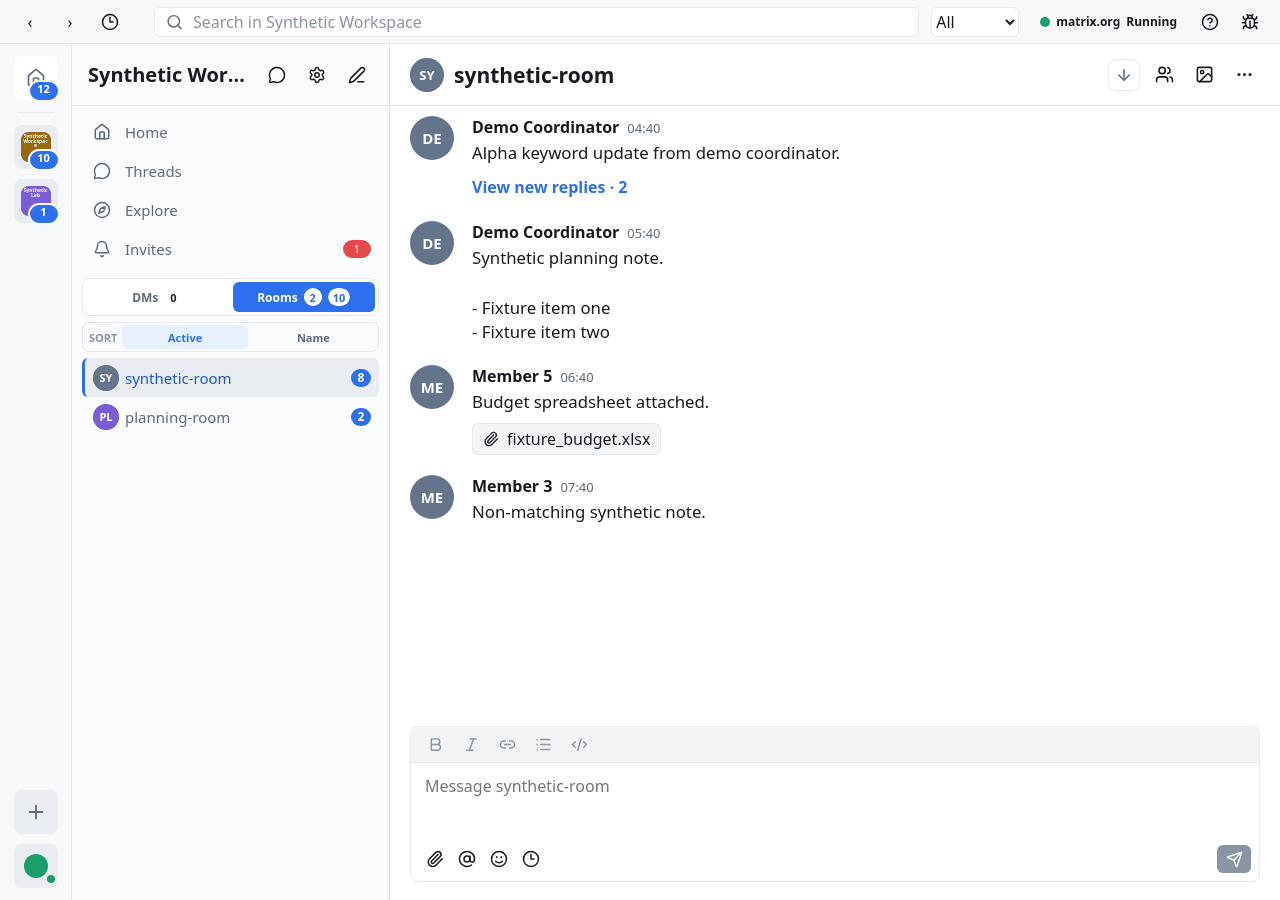
Test case: App search lifecycle › opens the search panel while the submitted query is still pending
In the field labelled "Search": {"x": 537, "y": 22} left=154, top=6, right=919, bottom=36, type "Pending"
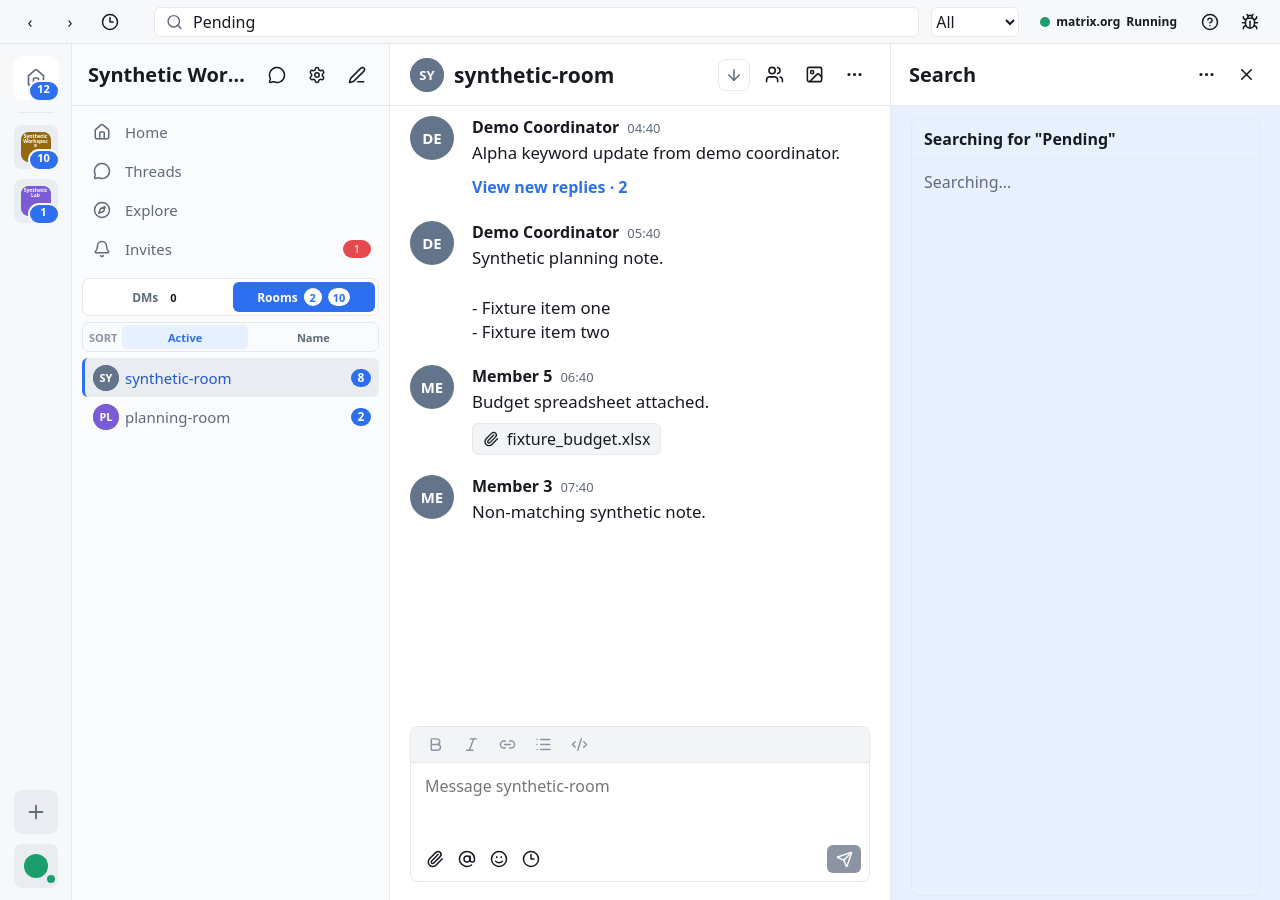
Result: the text "Searching for \"Pending\"" is shown at left=924, top=128, right=1116, bottom=150
